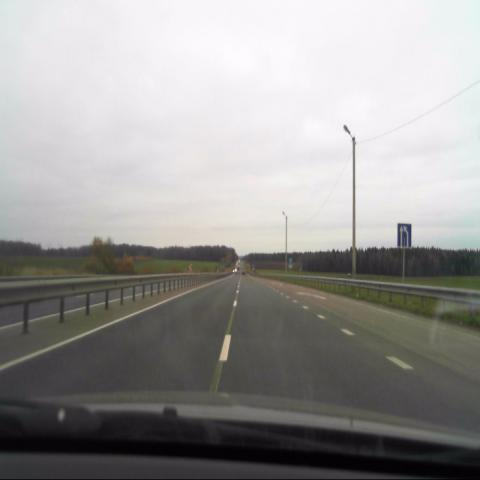5_15_5: (397, 222, 412, 248)
